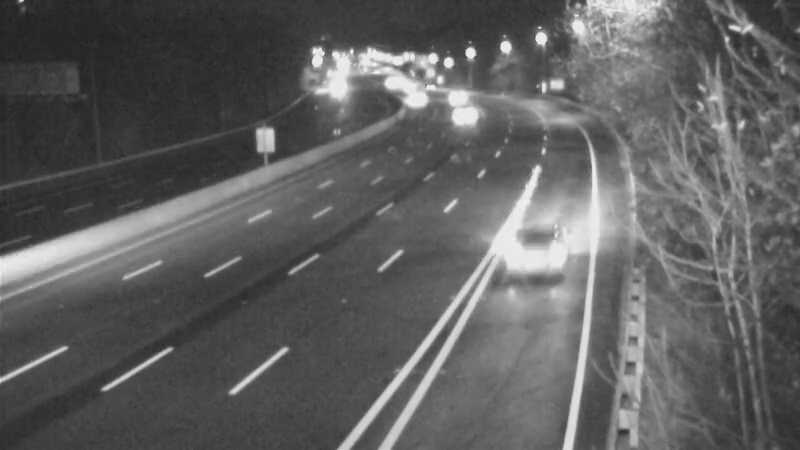vehicle: (501, 211, 581, 291), (430, 68, 480, 118), (389, 76, 439, 126), (434, 89, 484, 139)
